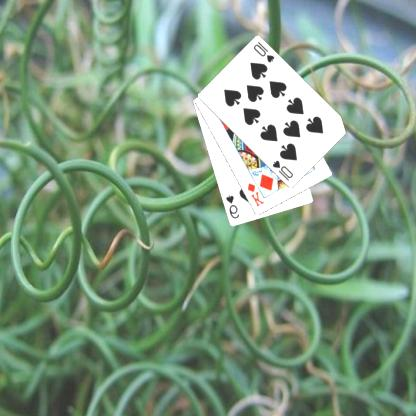10S: (252, 39, 277, 64), (272, 158, 296, 182)
6S: (225, 192, 242, 220)
KD: (247, 180, 268, 208)
